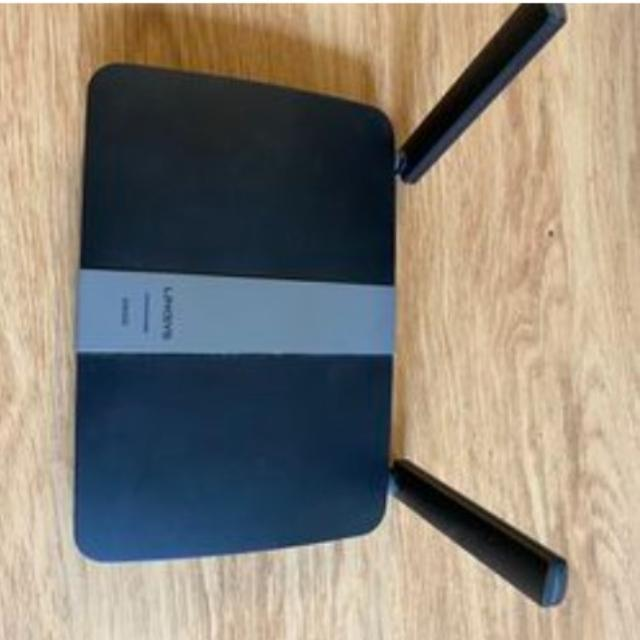Router: (73, 3, 569, 609)
